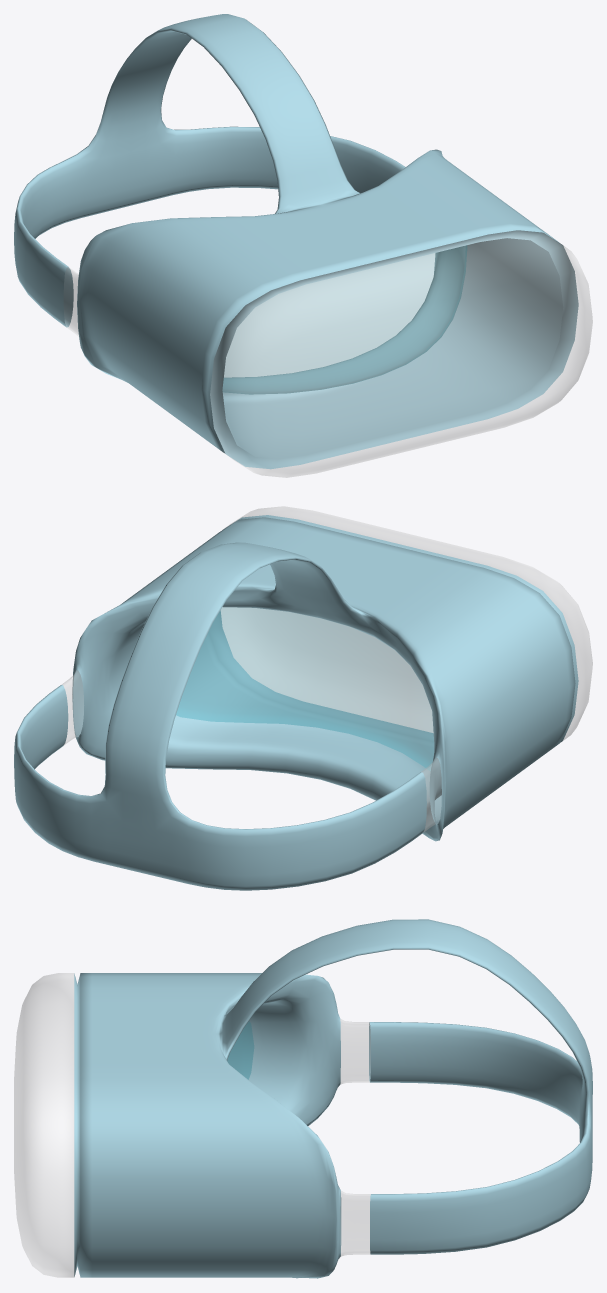
The picture shows the model from 3 angles, top to bottom: view 1: azimuth 30°, elevation 25°; view 2: azimuth 150°, elevation 25°; view 3: azimuth 270°, elevation 25°; orthographic projection.
Parts seen in each view (by area): view 1: Plane; view 2: Plane; view 3: Plane.
Boxes of the visible parts, x1=… form: Plane: x1=14, y1=14, x2=592, y2=477; Plane: x1=14, y1=506, x2=592, y2=890; Plane: x1=14, y1=919, x2=592, y2=1278.
Size of the model in its own units: 2.2 by 1.64 by 3.
